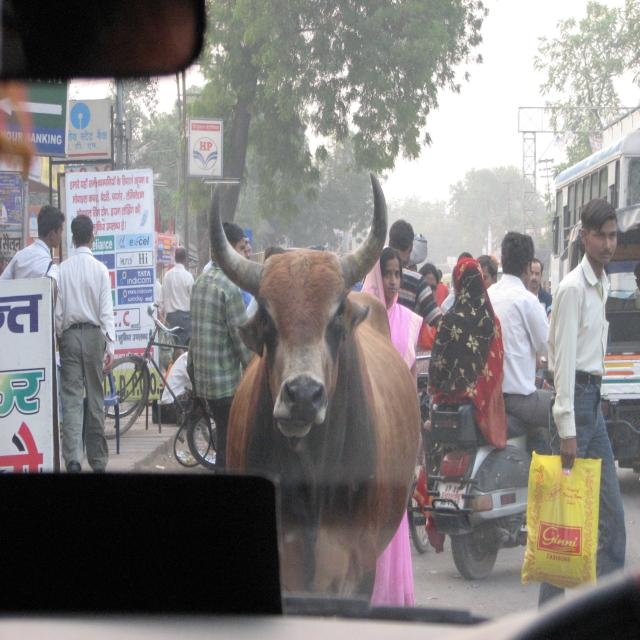cow: (210, 175, 420, 598)
